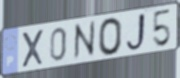0: (49, 26, 69, 64)
5: (151, 7, 173, 48)
J: (124, 11, 148, 53)
N: (73, 19, 97, 63)
O: (97, 16, 123, 58)
X: (20, 28, 45, 70)
